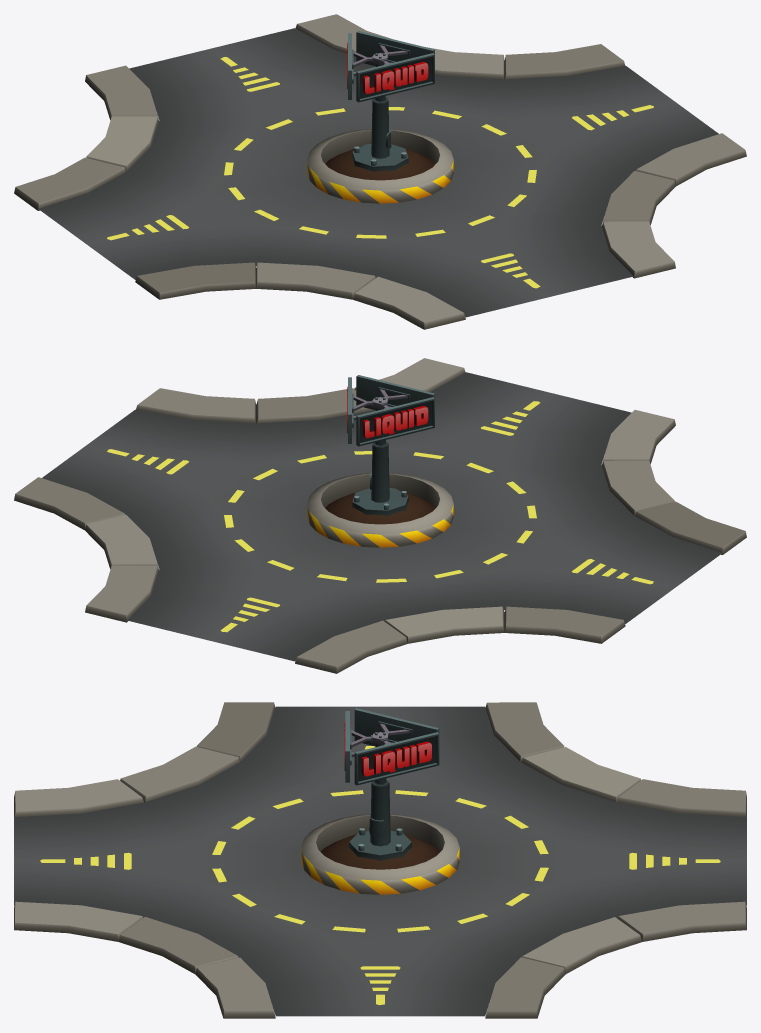
Rendered from Roundabout_2D.fbx.
3 views of the same model, one above another, from view 1: azimuth 30°, elevation 25°; view 2: azimuth 150°, elevation 25°; view 3: azimuth 270°, elevation 25° (orthographic). The views are drawn at different scales.
Parts seen in each view (by area): view 1: Roundabout_2D, Roundabout_2D_Rotating_Text; view 2: Roundabout_2D, Roundabout_2D_Rotating_Text; view 3: Roundabout_2D, Roundabout_2D_Rotating_Text.
Boxes of the visible parts, x1,y1,x2,y2 form: Roundabout_2D: [14, 14, 746, 329]; Roundabout_2D_Rotating_Text: [347, 31, 434, 102]; Roundabout_2D: [14, 358, 746, 673]; Roundabout_2D_Rotating_Text: [347, 375, 434, 446]; Roundabout_2D: [14, 702, 746, 1018]; Roundabout_2D_Rotating_Text: [344, 708, 439, 785].
Size of the model in its own units: 2800 by 560 by 2800.
